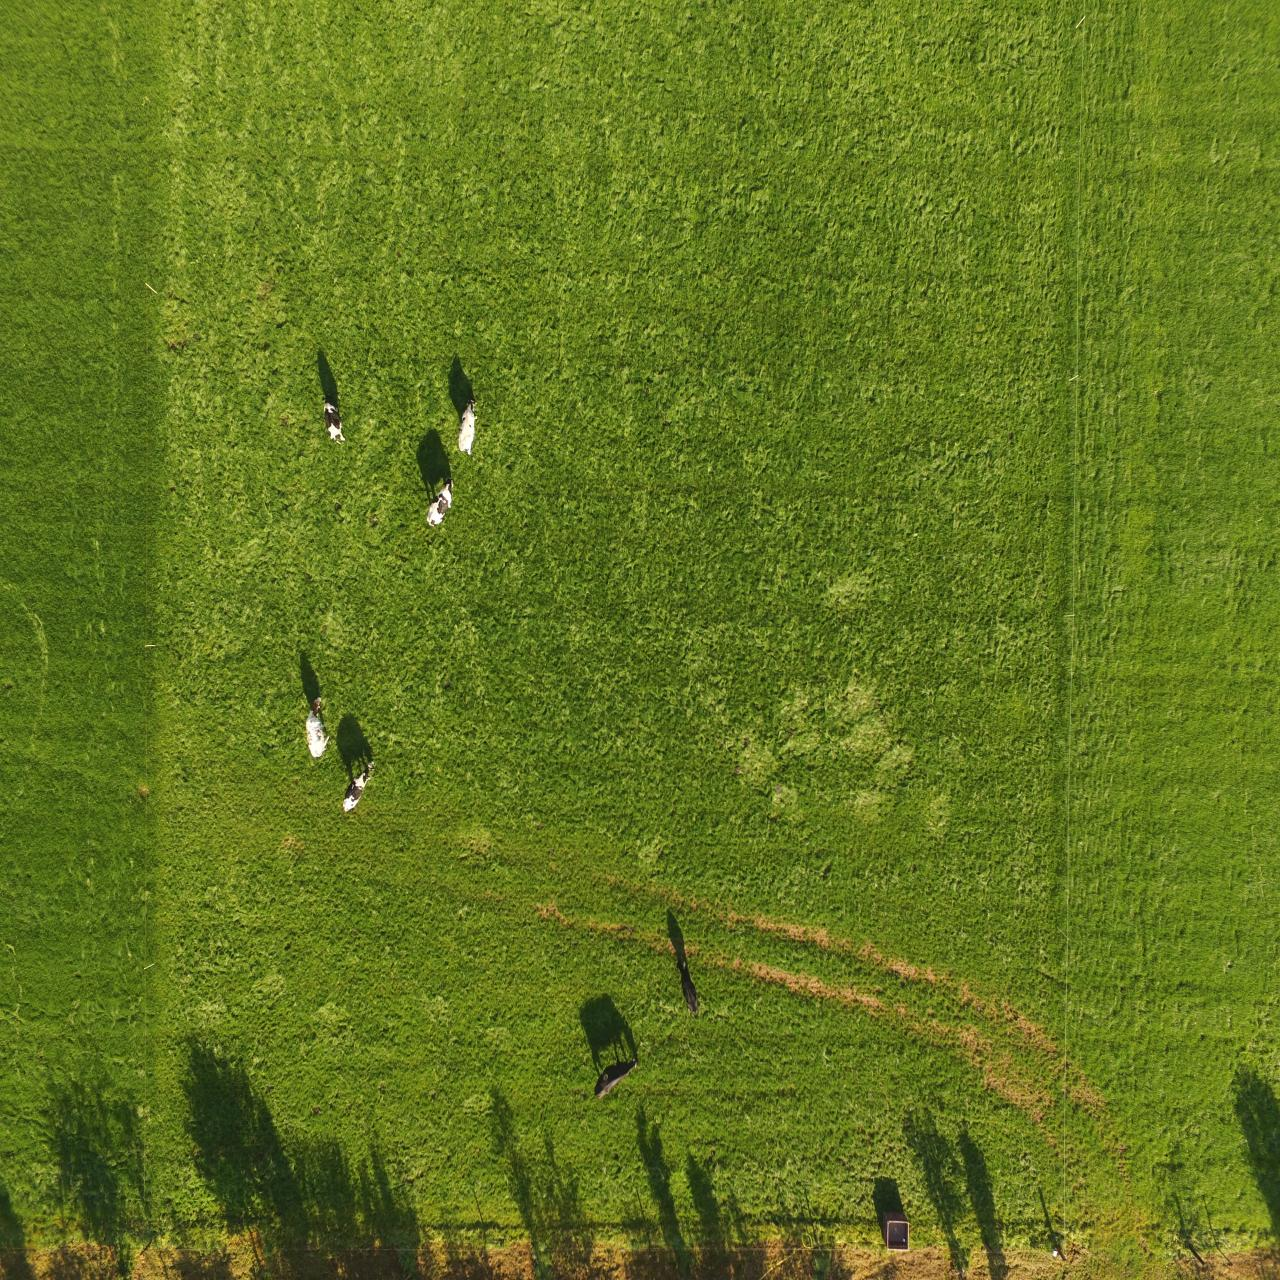cow: (297, 690, 335, 765), (592, 1054, 647, 1102), (421, 471, 464, 532), (345, 747, 375, 821), (674, 956, 712, 1013), (459, 390, 484, 455), (321, 388, 342, 458)
